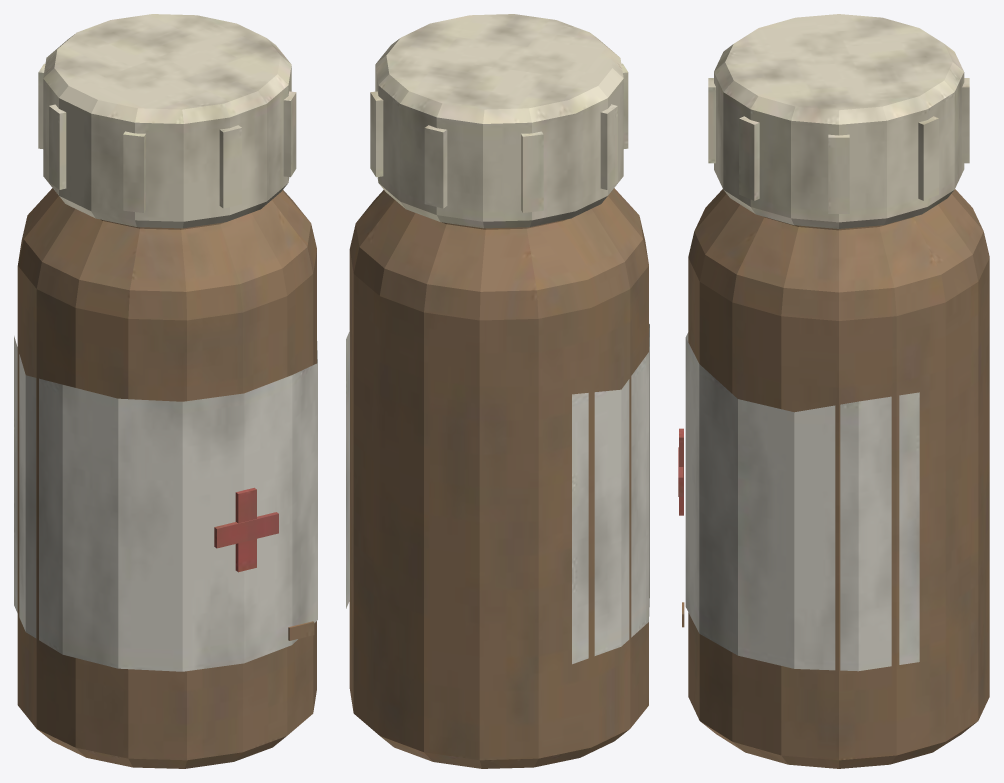
File: HE02_hospital_pill_bottles_v1.glb
The picture shows the model from 3 angles, left to right: view 1: azimuth 30°, elevation 25°; view 2: azimuth 150°, elevation 25°; view 3: azimuth 270°, elevation 25°; orthographic projection.
Parts seen in each view (by area): view 1: Moulded medicine bottle; view 2: Moulded medicine bottle; view 3: Moulded medicine bottle.
Boxes of the visible parts, bbox=[...] form: Moulded medicine bottle: bbox=[14, 14, 317, 768]; Moulded medicine bottle: bbox=[346, 14, 649, 768]; Moulded medicine bottle: bbox=[678, 14, 989, 768].
Size of the model in its own units: 0.0423 by 0.1 by 0.0434.
4 materials, 4 textured.
